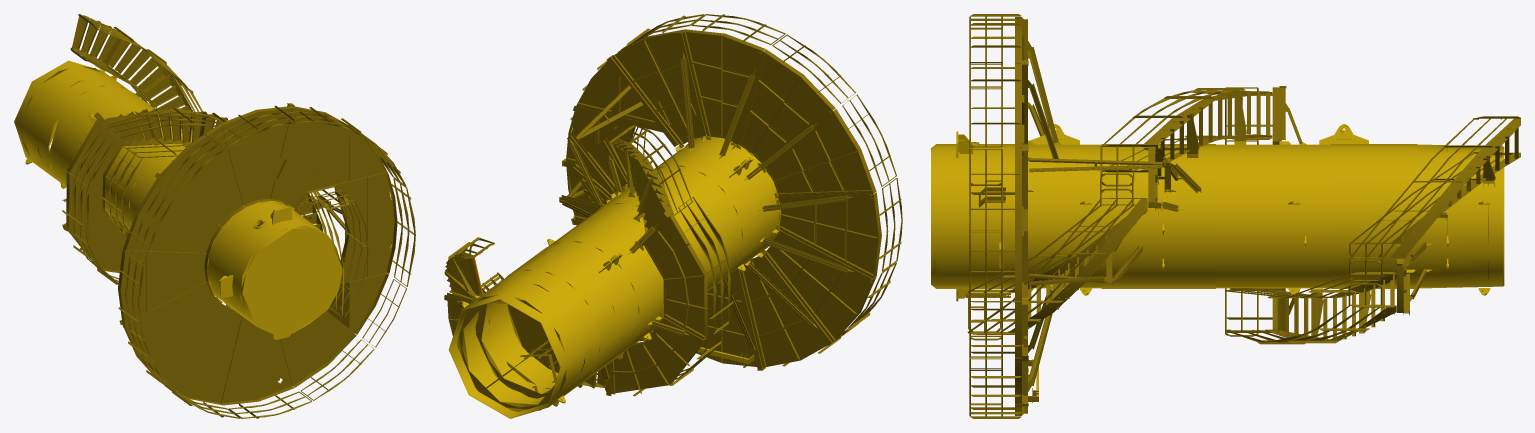
The model's file is tower.obj.
3 views of the same model, side by side, from view 1: azimuth 30°, elevation 25°; view 2: azimuth 150°, elevation 25°; view 3: azimuth 270°, elevation 25° (orthographic). The views are drawn at different scales.
Parts seen in each view (by area): view 1: tower; view 2: tower; view 3: tower.
Part boxes in pixels (box(x1,y1,x2,y2)): tower: box(14, 14, 415, 418); tower: box(444, 14, 902, 418); tower: box(931, 14, 1520, 418).
Size of the model in its own units: 8.8 by 8.77 by 12.86.
